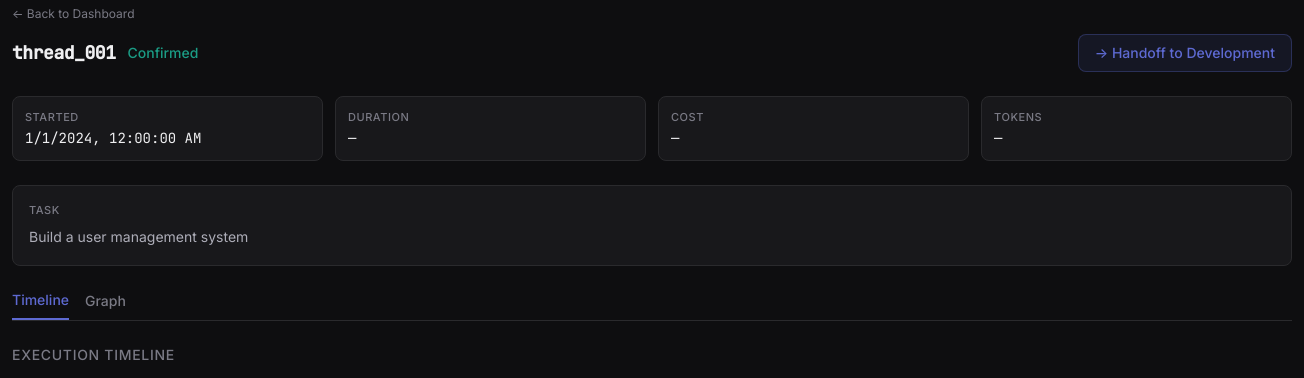
Test: ExecutionPage › State Transitions - Confirmed State › should show confirmation before handoff
Click the button "→ Handoff to Development": (1185, 53) [1078,34,1292,72]
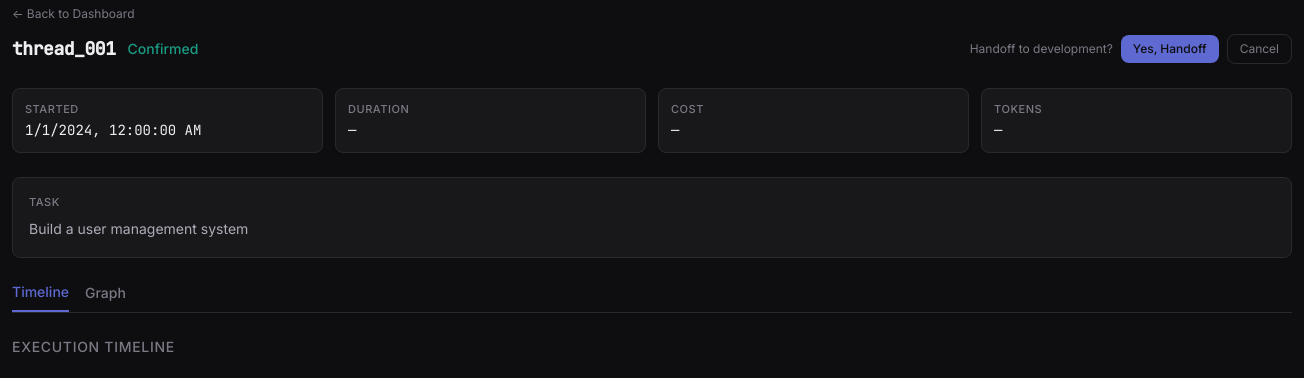
Now the text "Handoff to development?" is shown, box [970,41,1113,57]
Now the button "Yes, Handoff" is shown, box [1121,35,1219,63]
